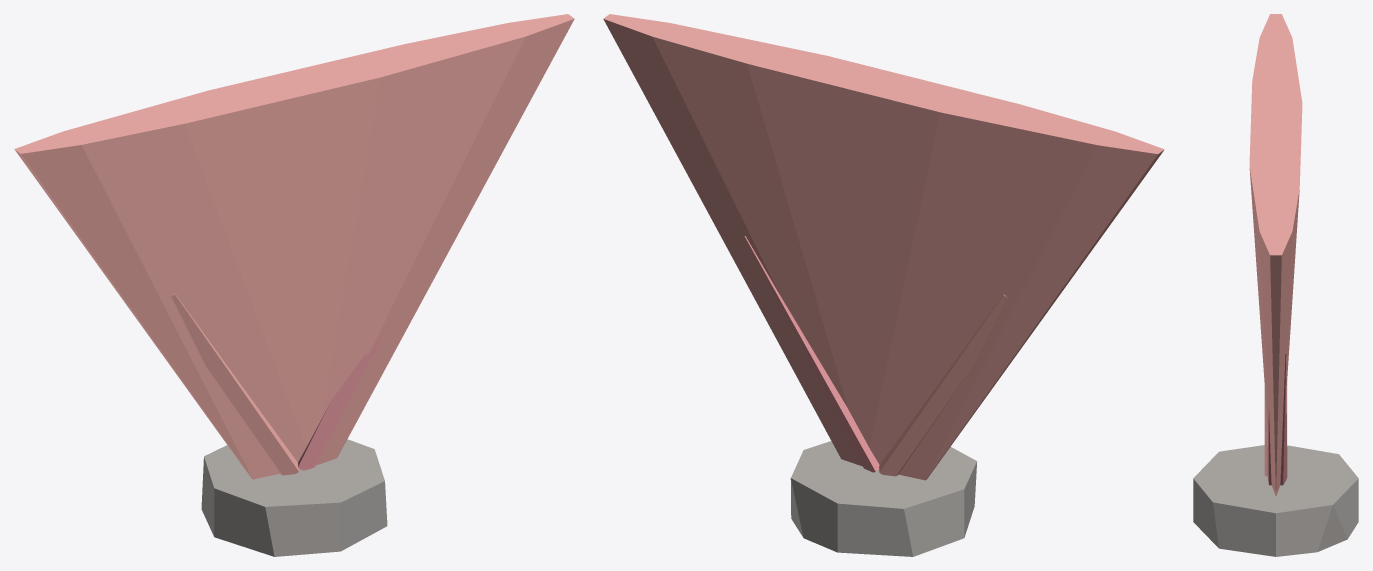
Rendered from 45-Arte3D_coral_abanico.glb.
3 renders of one model, left to right at view 1: azimuth 30°, elevation 25°; view 2: azimuth 150°, elevation 25°; view 3: azimuth 270°, elevation 25°, orthographic. The views are drawn at different scales.
Visible parts, largest first — view 1: SM_Coral_M_Coral_Abanico, SM_Coral_M_Coral_Roca, SM_Coral_M_Coral_Osc; view 2: SM_Coral_M_Coral_Abanico, SM_Coral_M_Coral_Roca, SM_Coral_M_Coral_Osc; view 3: SM_Coral_M_Coral_Abanico, SM_Coral_M_Coral_Roca, SM_Coral_M_Coral_Osc.
Part boxes in pixels (x1,y1,x2,y2): SM_Coral_M_Coral_Abanico: (14, 14, 574, 479); SM_Coral_M_Coral_Roca: (201, 439, 387, 556); SM_Coral_M_Coral_Osc: (298, 323, 389, 470); SM_Coral_M_Coral_Abanico: (603, 14, 1164, 480); SM_Coral_M_Coral_Roca: (790, 441, 977, 556); SM_Coral_M_Coral_Osc: (744, 236, 879, 472); SM_Coral_M_Coral_Abanico: (1249, 14, 1302, 495); SM_Coral_M_Coral_Roca: (1193, 445, 1358, 556); SM_Coral_M_Coral_Osc: (1267, 353, 1287, 485).
Bounding box in the file's own units: 1.66 × 1.24 × 0.48.
